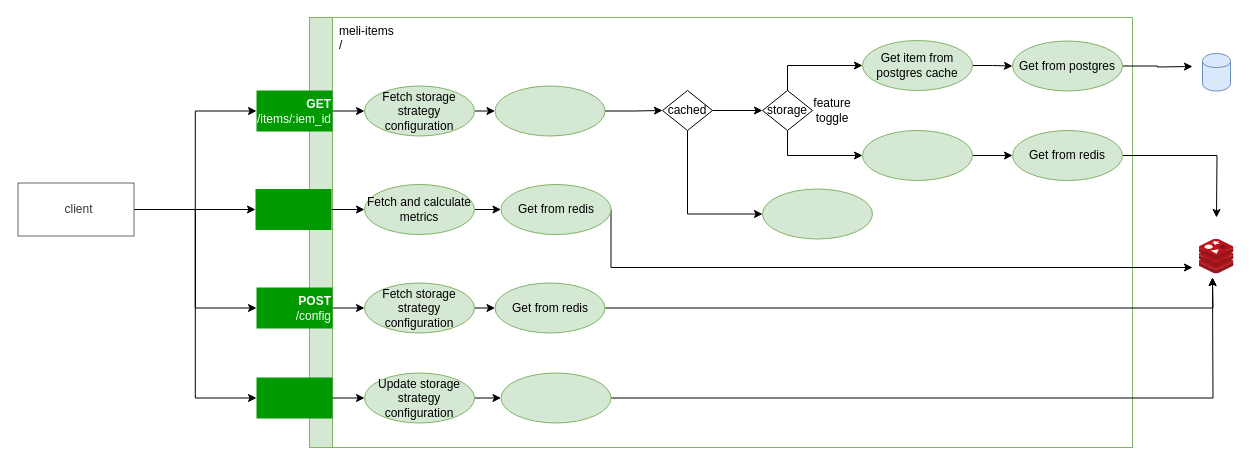
Some shapes in this 1256 by 465 pixel diagram are drawn without their labels. Each missing label, with the centre of its shape:
GET /health: the point at 293,209
Get item: the point at 549,110
Get item from API: the point at 817,213
Get item from redis cache: the point at 917,155
postgres: the point at 1216,71
PUT /config: the point at 294,397
redis: the point at 1216,256
Save in redis: the point at 555,397
